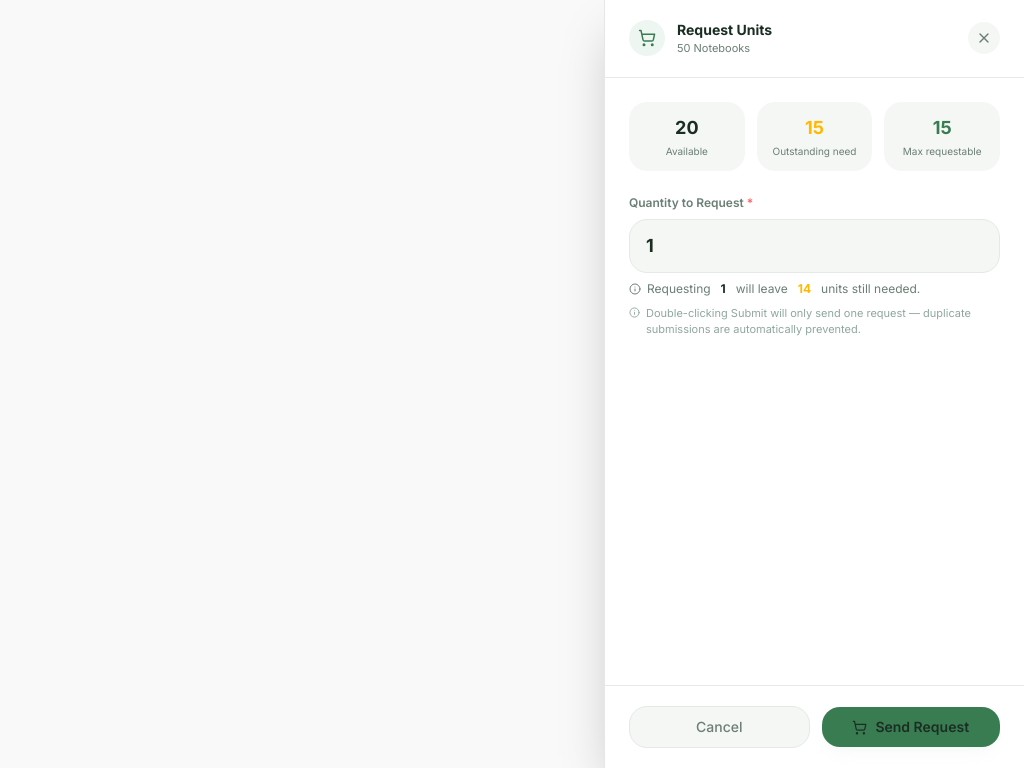
RequestDrawer › T-14.2-03: 409 conflict shows informative message
Replace the text in the number field labelled "Quantity to Request *" with "8" at [814, 246], box [629, 218, 1000, 272]
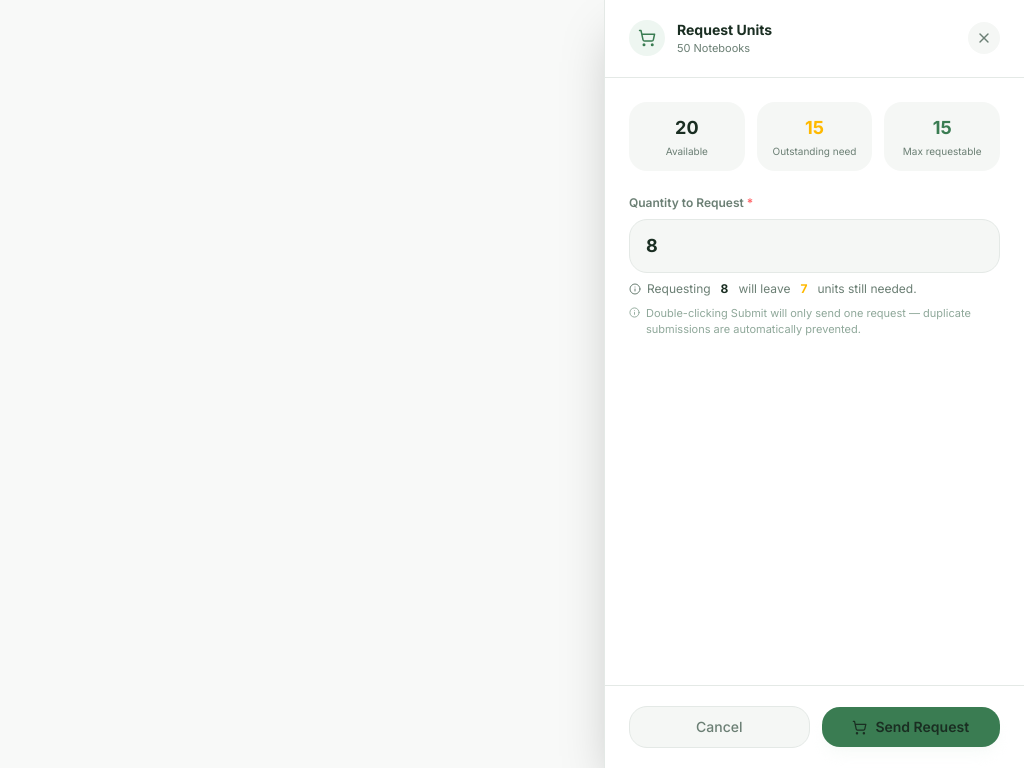
Click the button "Send Request" at [911, 727], box [822, 707, 1000, 747]
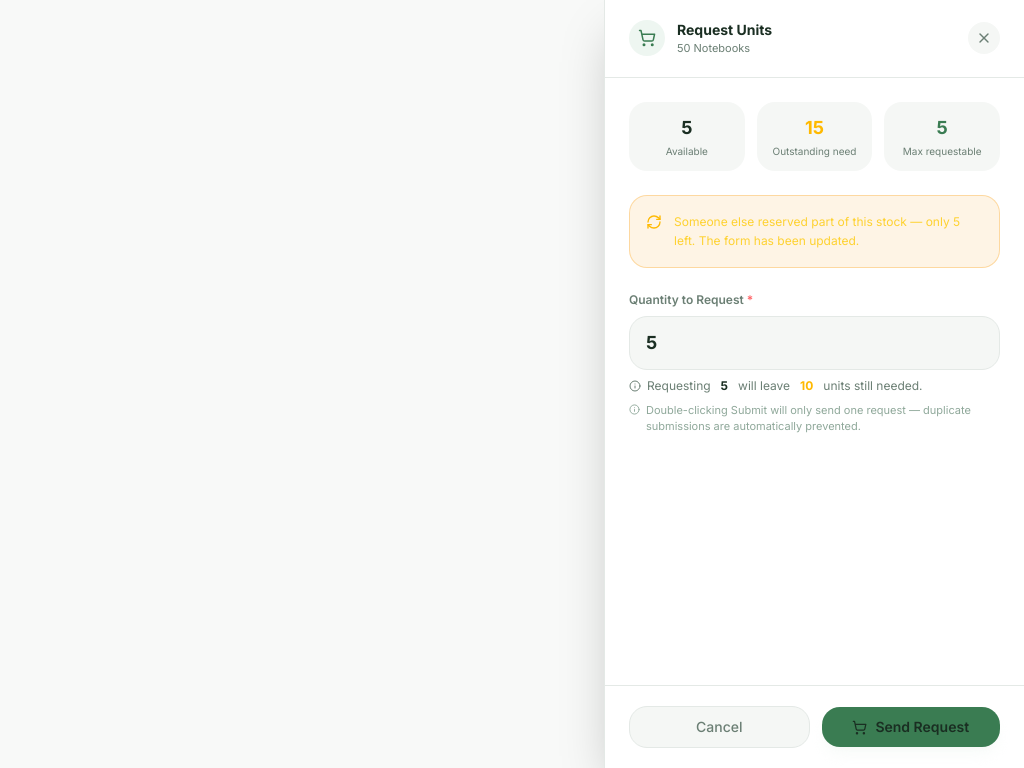
Now the text "only 5 left" is shown, box [674, 214, 960, 248]
